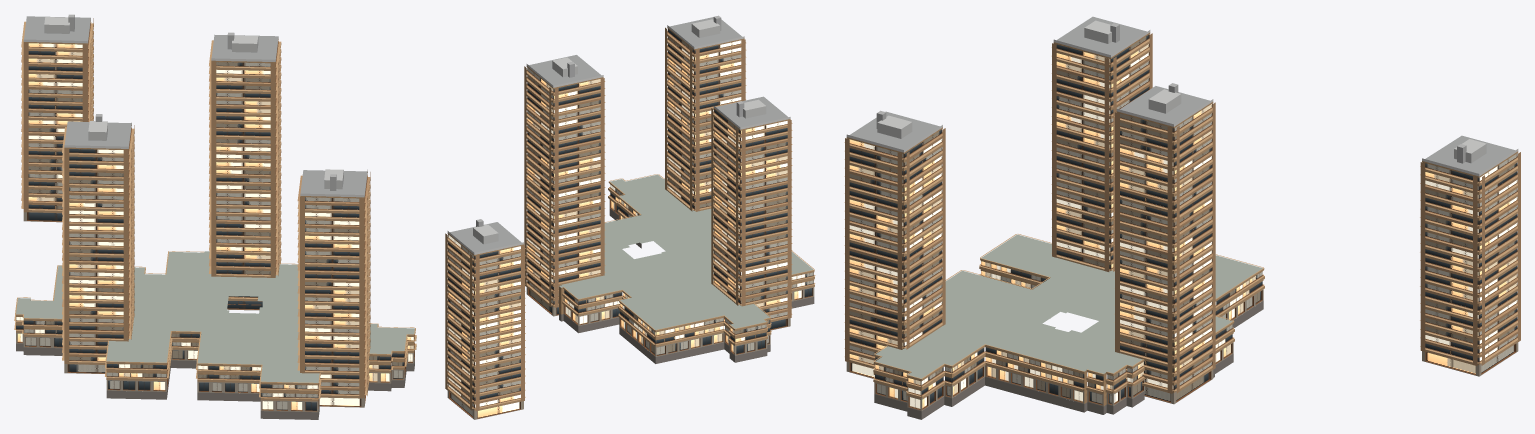
File: hardau_towers.glb
The picture shows the model from 3 angles, left to right: view 1: azimuth 30°, elevation 25°; view 2: azimuth 150°, elevation 25°; view 3: azimuth 270°, elevation 25°; orthographic projection. The views are drawn at different scales.
Parts seen in each view (by area): view 1: hardau; view 2: hardau; view 3: hardau.
Boxes of the visible parts, <box> form: hardau: <box>14,14,416,419</box>; hardau: <box>445,15,815,419</box>; hardau: <box>844,16,1520,419</box>.
Bounding box in the file's own units: 117 × 104 × 215.
Materials: 3 (3 with a texture image).
